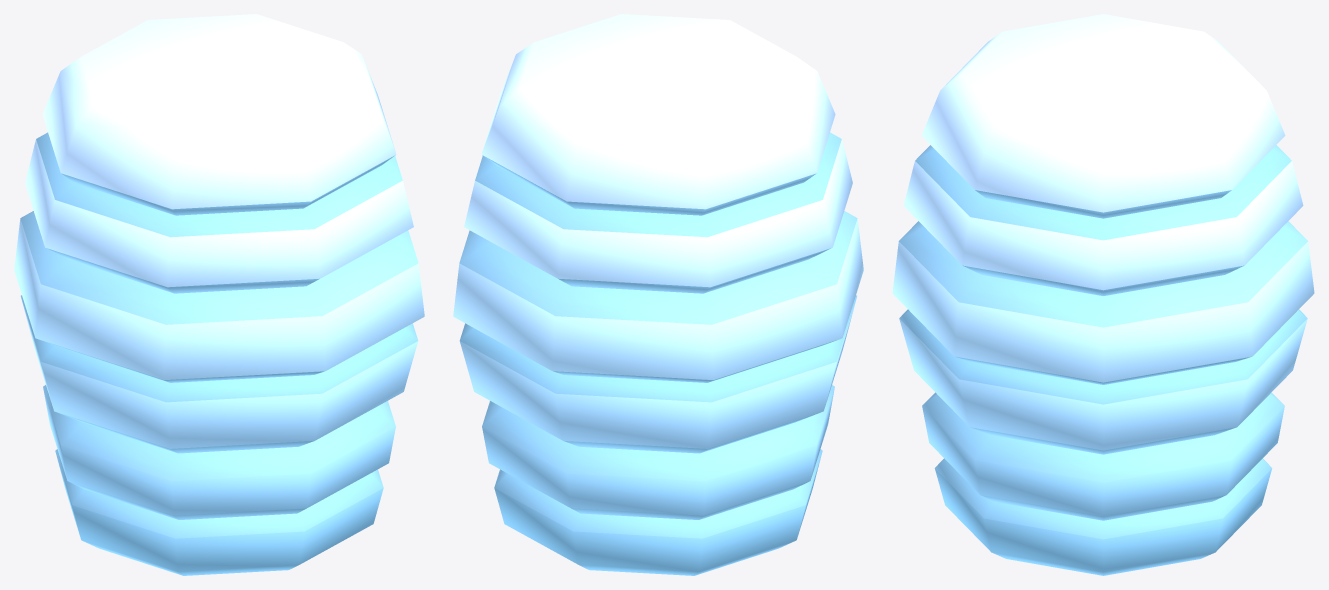
File: steel_grip_035.glb
3 views of the same model, side by side, from view 1: azimuth 30°, elevation 25°; view 2: azimuth 150°, elevation 25°; view 3: azimuth 270°, elevation 25° (orthographic).
Parts seen in each view (by area): view 1: steel_grip_035; view 2: steel_grip_035; view 3: steel_grip_035.
Part boxes in pixels (x1=…): steel_grip_035: x1=14, y1=14, x2=424, y2=575; steel_grip_035: x1=453, y1=14, x2=863, y2=575; steel_grip_035: x1=892, y1=14, x2=1314, y2=575.
Size of the model in its own units: 2.58 by 3 by 2.58.
1 material, 1 textured.
